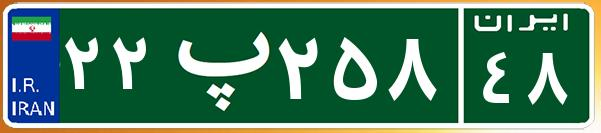2: (273, 28, 330, 110), (57, 26, 110, 107), (110, 28, 158, 105)
4: (475, 38, 525, 113)
5: (330, 28, 385, 110)
8: (385, 28, 445, 110), (525, 38, 570, 115)
پ: (158, 15, 273, 115)
